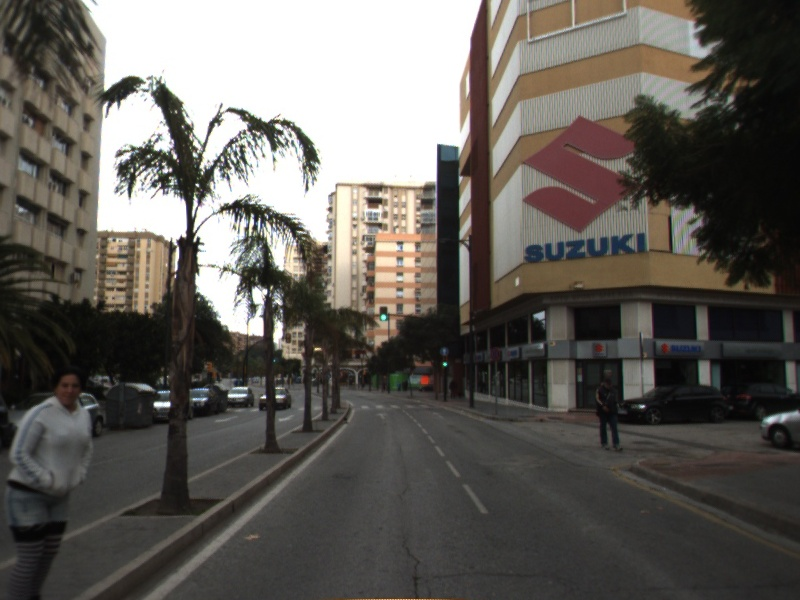STRAIGHT: (373, 410, 391, 422)
